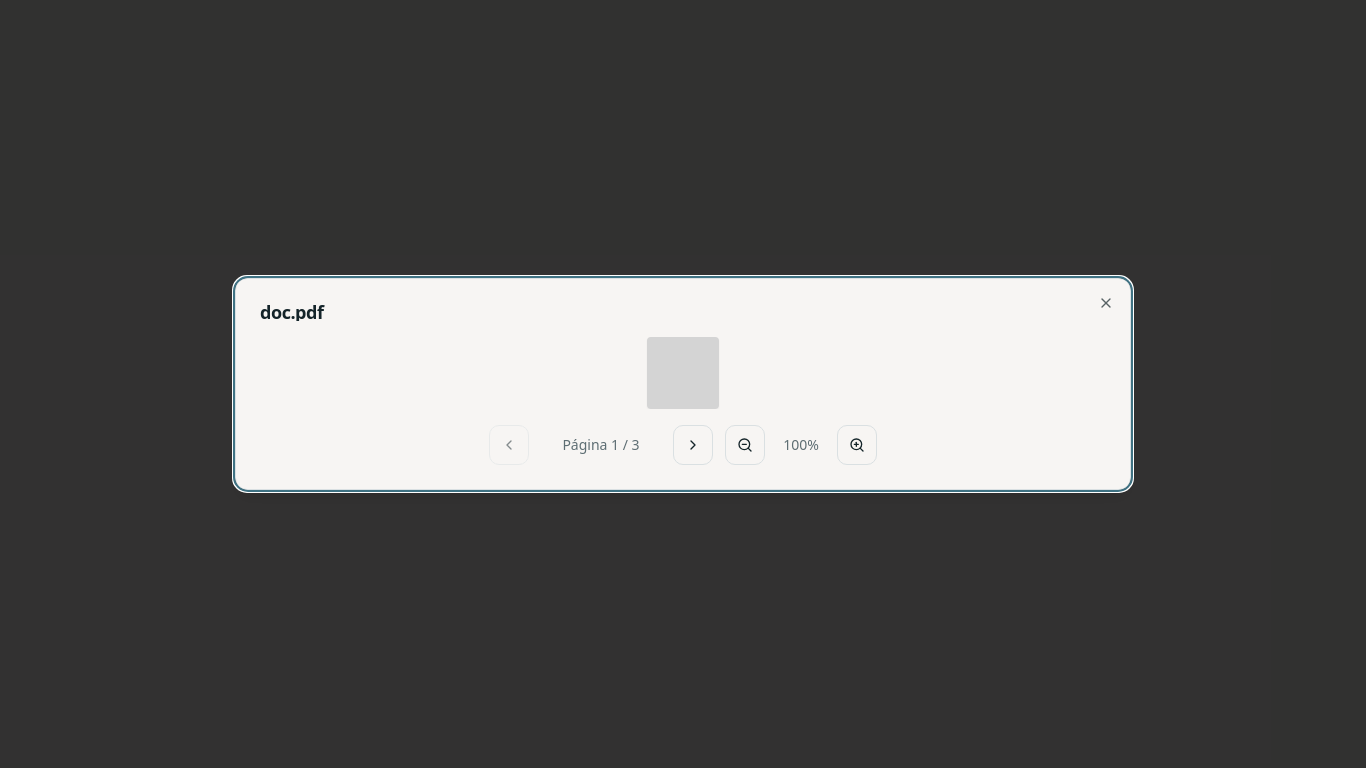
Scenario: PdfPreviewModal (forms) › zoom controls › aumentar zoom increases to 125%
Check: the text "Página 1 / 3" is shown, box [562,435,640,454]
Click the button named "aumentar zoom" at (857, 445), box [837,425,877,465]
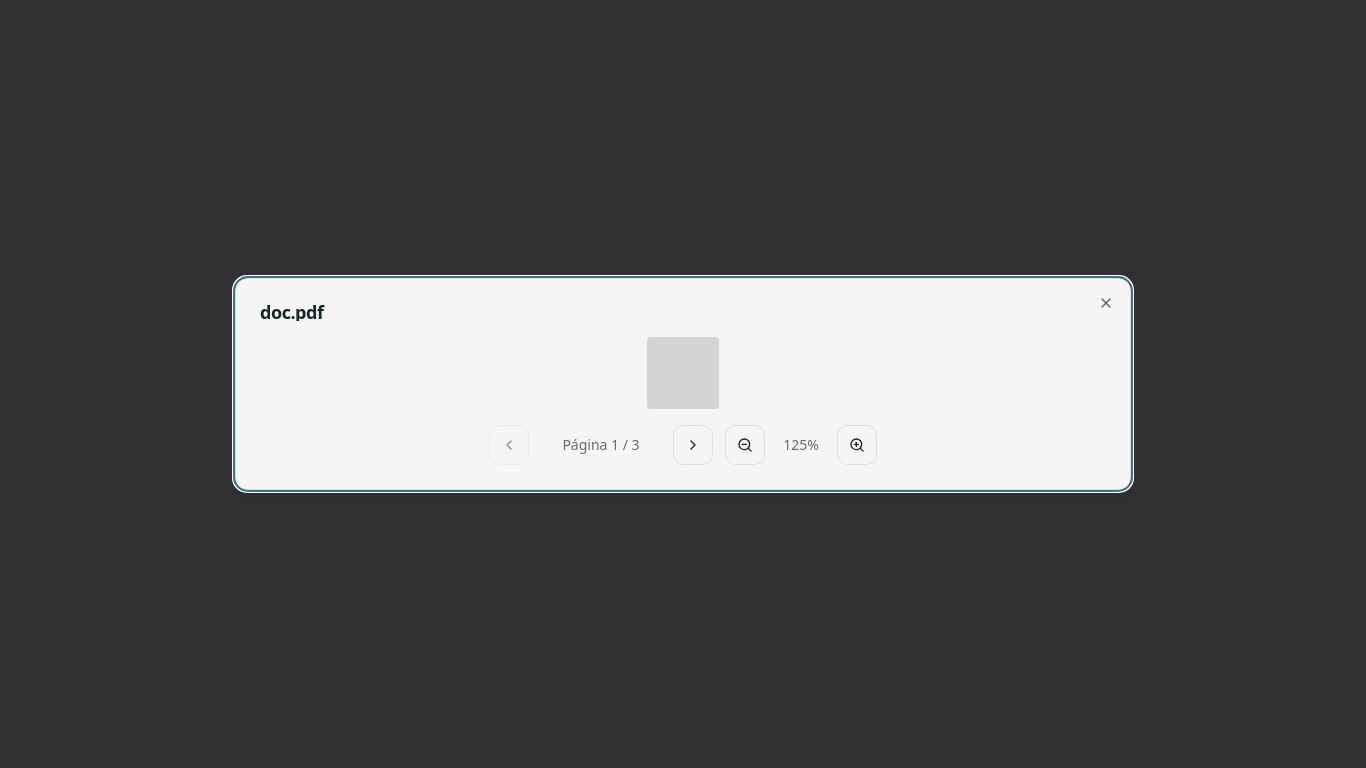
Check: the text "125%" is shown, box [783,435,819,454]
